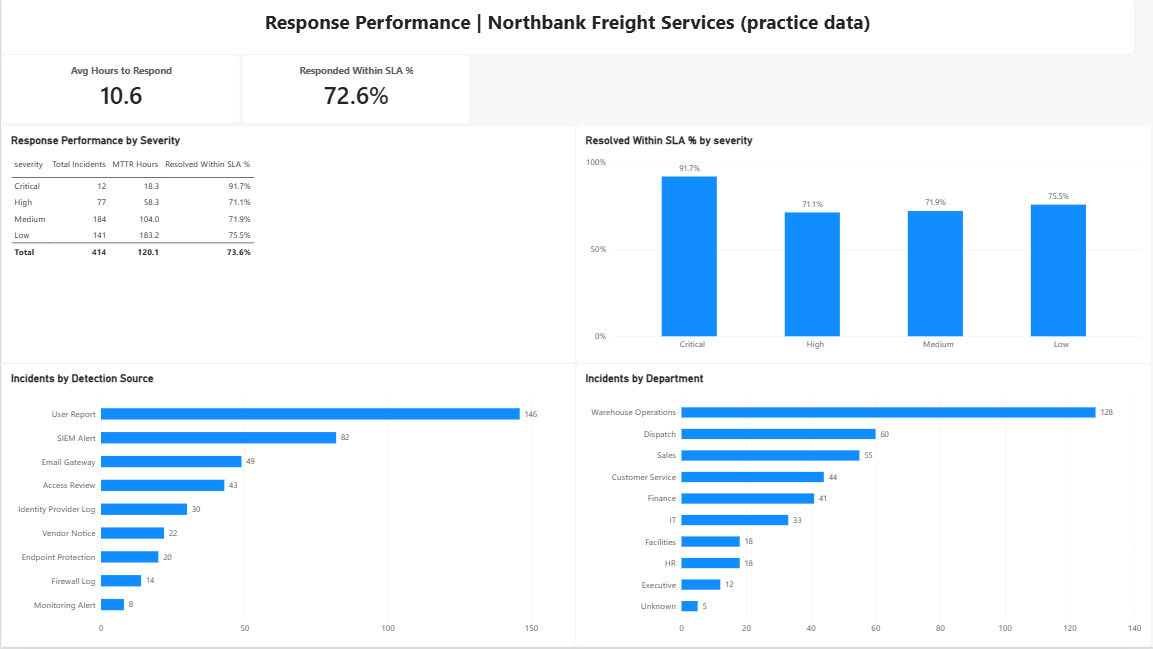

Layout of this report page (visuals, bound fields, positions):
{"tool":"powerbi","page":{"name":"Response Performance","canvas":[1920,1080],"ordinal":1},"visuals":[{"type":"textbox","box":[0,0,1889.7,93.3],"z":0},{"type":"tableEx","title":"Response Performance by Severity","fields":{"Values":["sla_targets.severity","security_incidents.Total Incidents","security_incidents.MTTR Hours","security_incidents.Resolved Within SLA %"]},"box":[0,209,960.8,397.5],"z":1000},{"type":"clusteredColumnChart","fields":{"Category":["sla_targets.severity"],"Y":["security_incidents.Resolved Within SLA %"]},"box":[958.5,209,960.8,397.5],"z":2000},{"type":"clusteredBarChart","title":" Incidents by Detection Source","fields":{"Category":["security_incidents.detection_source"],"Y":["security_incidents.Total Incidents"]},"box":[0,606.4,960.8,472.4],"z":3000},{"type":"clusteredBarChart","title":" Incidents by Department","fields":{"Category":["security_incidents.department"],"Y":["security_incidents.Total Incidents"]},"box":[958.5,606.4,960.8,472.4],"z":4000},{"type":"cardVisual","fields":{"Data":["security_incidents.Avg Hours to Respond"]},"box":[0,93.1,399.8,115.8],"z":5000},{"type":"cardVisual","fields":{"Data":["security_incidents.Responded Within SLA %"]},"box":[399.8,93.1,383.9,115.8],"z":6000}]}

Visuals, with their boxes in screenshot pixels (x1, y1, x2, y2), scaled from the page's 1920x1080 canvas onto the 1153x649 screenshot:
textbox: 0:0:1135:56
"Response Performance by Severity" tableEx: 0:126:577:364
clusteredColumnChart - sla_targets.severity x security_incidents.Resolved Within SLA %: 576:126:1152:364
" Incidents by Detection Source" clusteredBarChart: 0:364:577:648
" Incidents by Department" clusteredBarChart: 576:364:1152:648
cardVisual - security_incidents.Avg Hours to Respond: 0:56:240:126
cardVisual - security_incidents.Responded Within SLA %: 240:56:471:126
